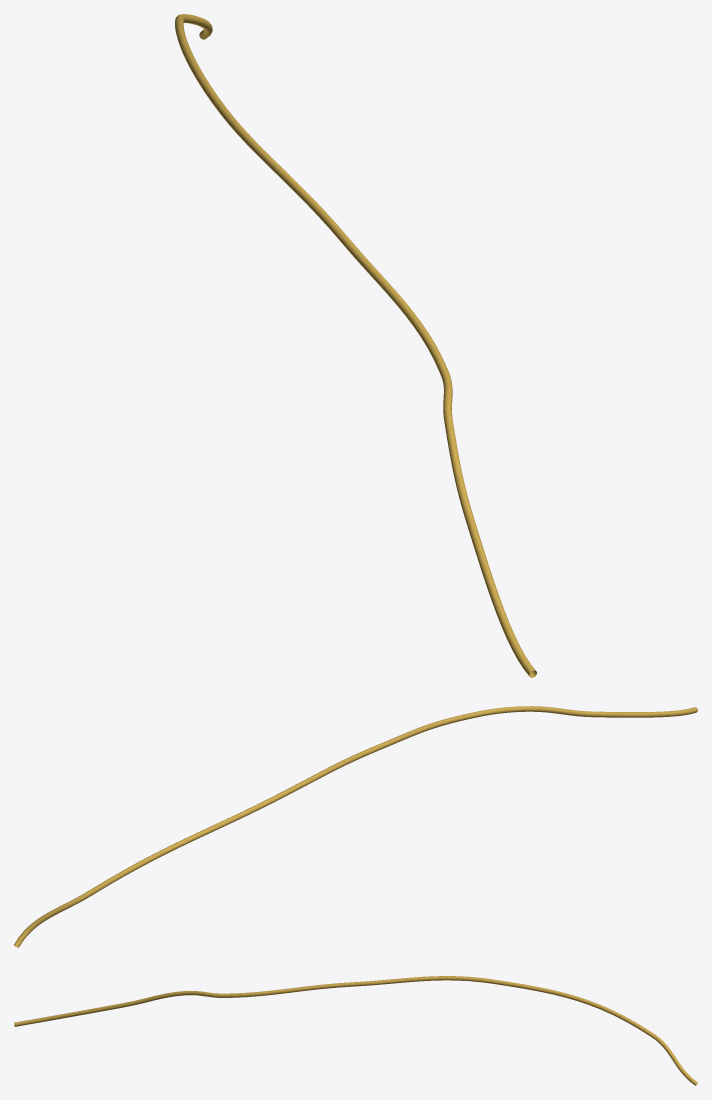
3 views of the same model, one above another, from view 1: azimuth 30°, elevation 25°; view 2: azimuth 150°, elevation 25°; view 3: azimuth 270°, elevation 25° (orthographic). The views are drawn at different scales.
Parts seen in each view (by area): view 1: 左侧腓总神经; view 2: 左侧腓总神经; view 3: 左侧腓总神经.
Boxes of the visible parts, left/top/right/bottom form: 左侧腓总神经: left=175, top=14, right=536, bottom=677; 左侧腓总神经: left=14, top=706, right=697, bottom=947; 左侧腓总神经: left=14, top=976, right=697, bottom=1085.
Bounding box in the file's own units: 0.0695 × 0.0329 × 0.2287.
